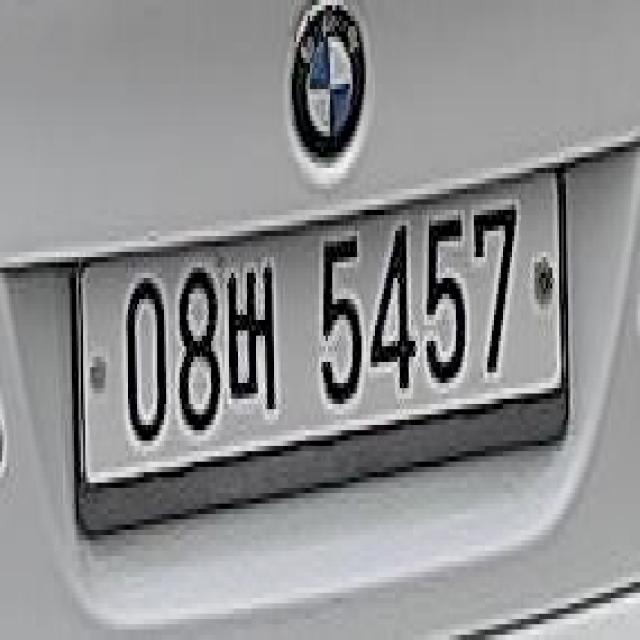illegal_plate: (63, 165, 570, 529)
